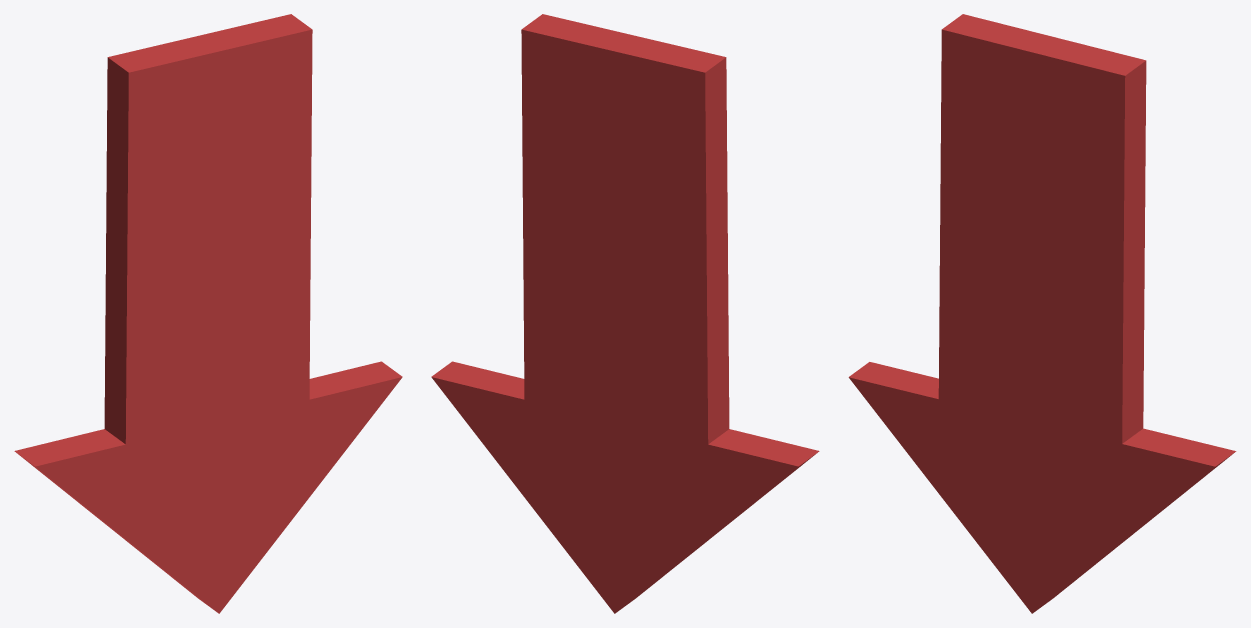
The model's file is arrow_red.fbx.
The picture shows the model from 3 angles, left to right: view 1: azimuth 30°, elevation 25°; view 2: azimuth 150°, elevation 25°; view 3: azimuth 330°, elevation 25°; orthographic projection.
Visible parts, largest first — view 1: Box2; view 2: Box2; view 3: Box2.
Part boxes in pixels (x1,y1,x2,y2): Box2: (14, 14, 402, 613); Box2: (431, 14, 819, 613); Box2: (848, 14, 1236, 613).
Size of the model in its own units: 100 by 147 by 10.
